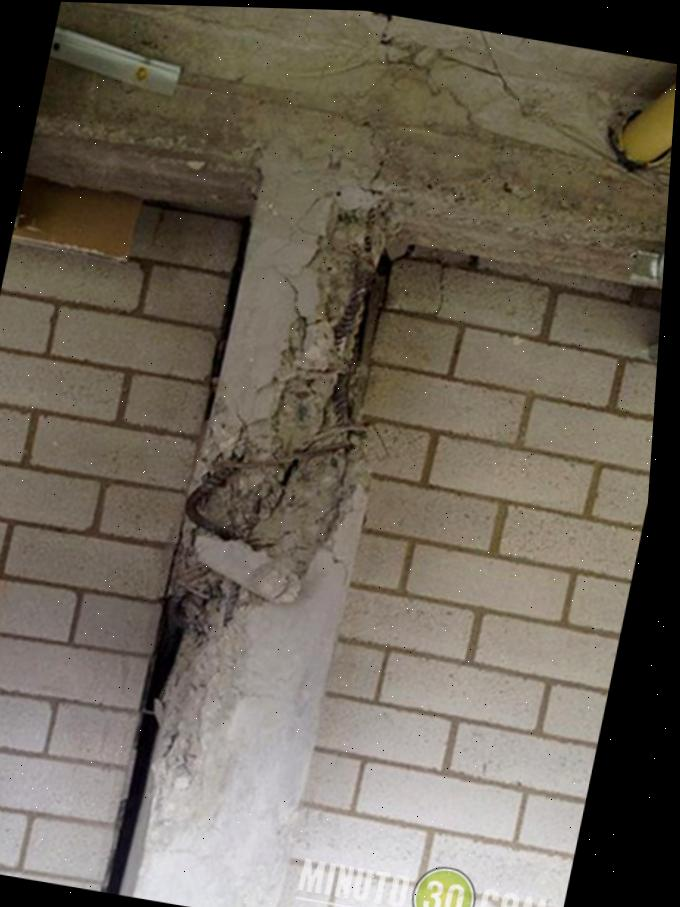spalling: (151, 195, 401, 778)
